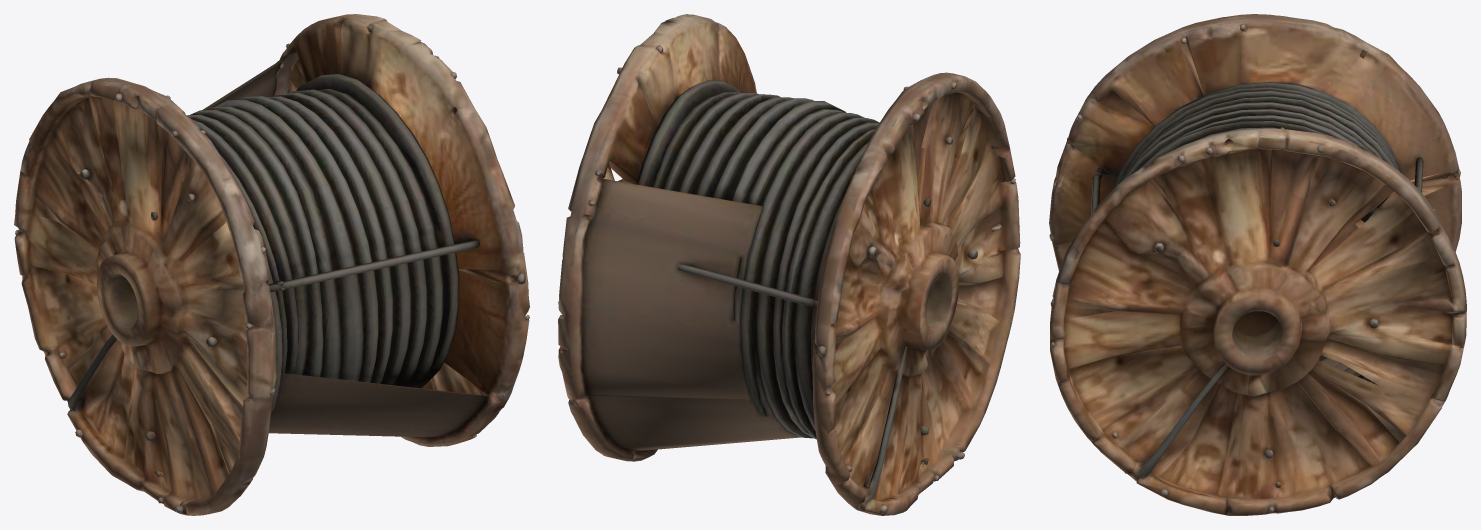
File: prop_cable_spool.glb
The picture shows the model from 3 angles, left to right: view 1: azimuth 30°, elevation 25°; view 2: azimuth 150°, elevation 25°; view 3: azimuth 270°, elevation 25°; orthographic projection. The views are drawn at different scales.
Parts seen in each view (by area): view 1: tripo_node_eb15199a-a418-4443-80eb-9d2c9a9b1198; view 2: tripo_node_eb15199a-a418-4443-80eb-9d2c9a9b1198; view 3: tripo_node_eb15199a-a418-4443-80eb-9d2c9a9b1198.
Part boxes in pixels (<box>): tripo_node_eb15199a-a418-4443-80eb-9d2c9a9b1198: <box>14,14,529,515</box>; tripo_node_eb15199a-a418-4443-80eb-9d2c9a9b1198: <box>558,14,1020,515</box>; tripo_node_eb15199a-a418-4443-80eb-9d2c9a9b1198: <box>1049,14,1466,515</box>.
Size of the model in its own units: 0.5998 by 0.75 by 0.7471.
Materials: 1 (1 with a texture image).
